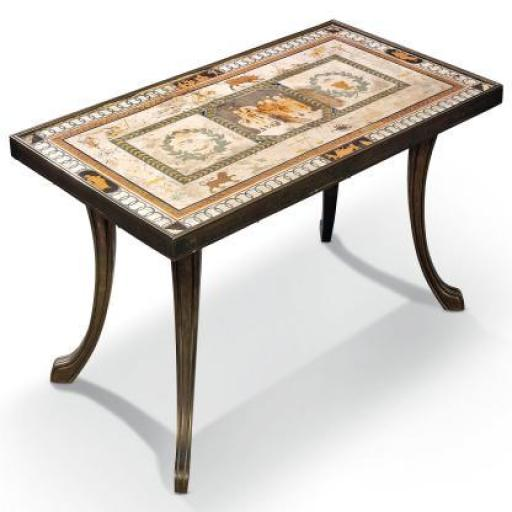table: (8, 18, 503, 495)
